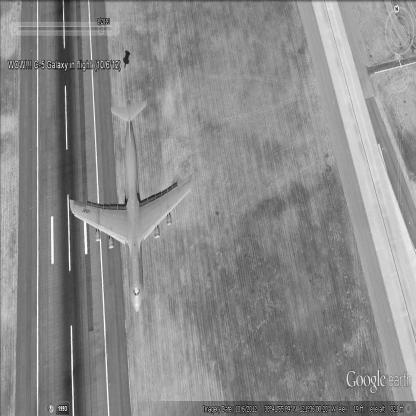C5: (70, 100, 195, 313)
